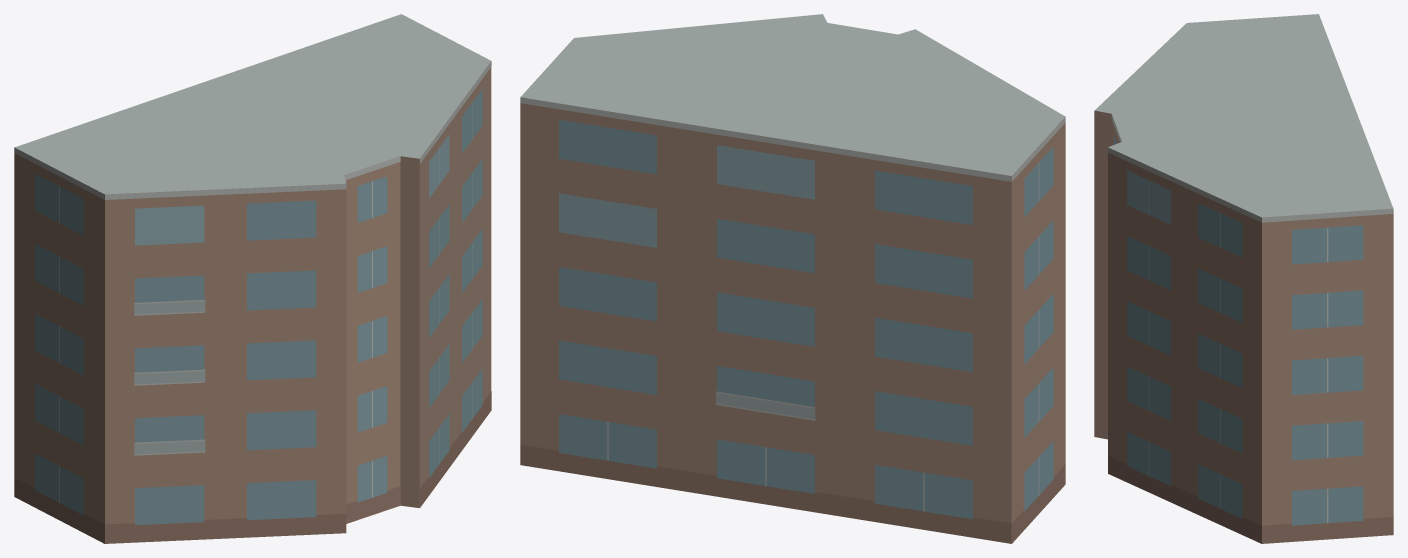
Rendered from survey-upis-32968038.glb.
3 renders of one model, left to right at view 1: azimuth 30°, elevation 25°; view 2: azimuth 150°, elevation 25°; view 3: azimuth 270°, elevation 25°, orthographic. The views are drawn at different scales.
Parts seen in each view (by area): view 1: survey-upis-32968038.tmp; view 2: survey-upis-32968038.tmp; view 3: survey-upis-32968038.tmp.
Part boxes in pixels (<box>): survey-upis-32968038.tmp: <box>14,14,491,543</box>; survey-upis-32968038.tmp: <box>520,14,1065,543</box>; survey-upis-32968038.tmp: <box>1094,14,1393,543</box>.
Bounding box in the file's own units: 20.4 × 15.25 × 12.67.
